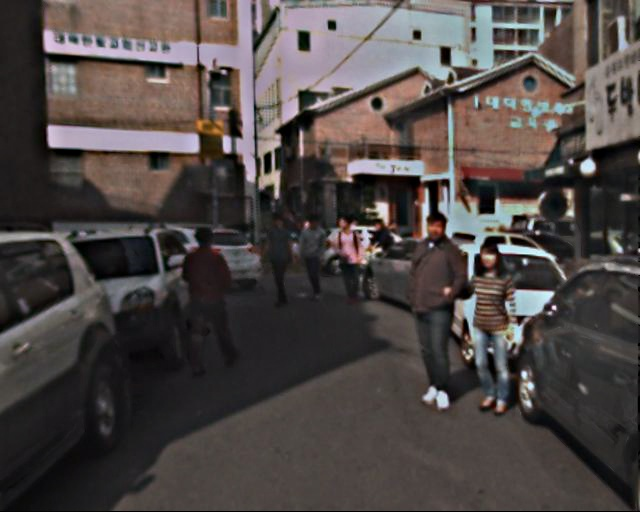person: (394, 211, 476, 410), (453, 242, 524, 416), (175, 225, 238, 378), (259, 214, 298, 309), (329, 216, 367, 308), (295, 214, 331, 302), (365, 219, 393, 287)
